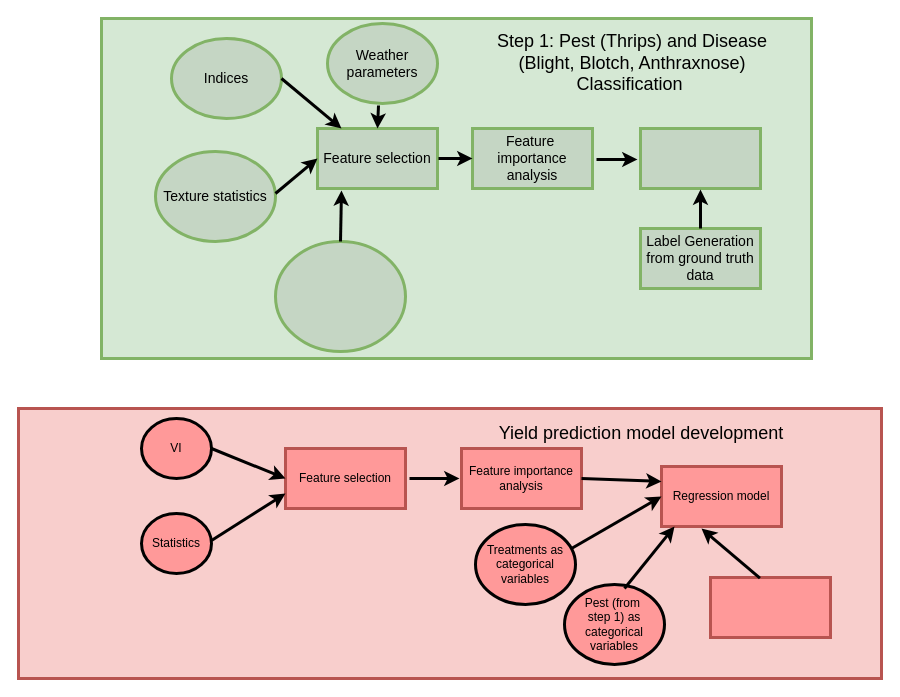
Some shapes in this 900 by 697 pixel diagram are drawn without their labels. Here are the shapes that lost their labels. From the top down, the centre of each, then its label:
At point (700, 158): "Classification Model".
At point (340, 296): "Crop parameters (Leaf area index, crop height, canopy volume)".
At point (770, 607): "Yield data - Ground truth excel file".
